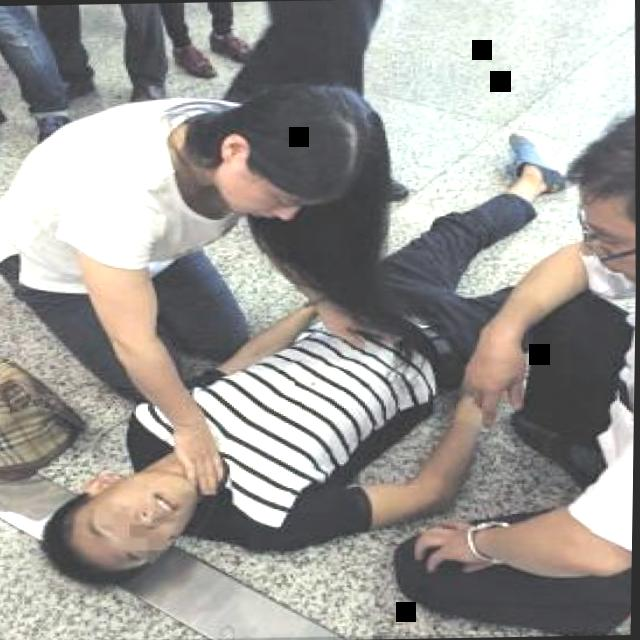Fall-Detected: (9, 130, 559, 584)
